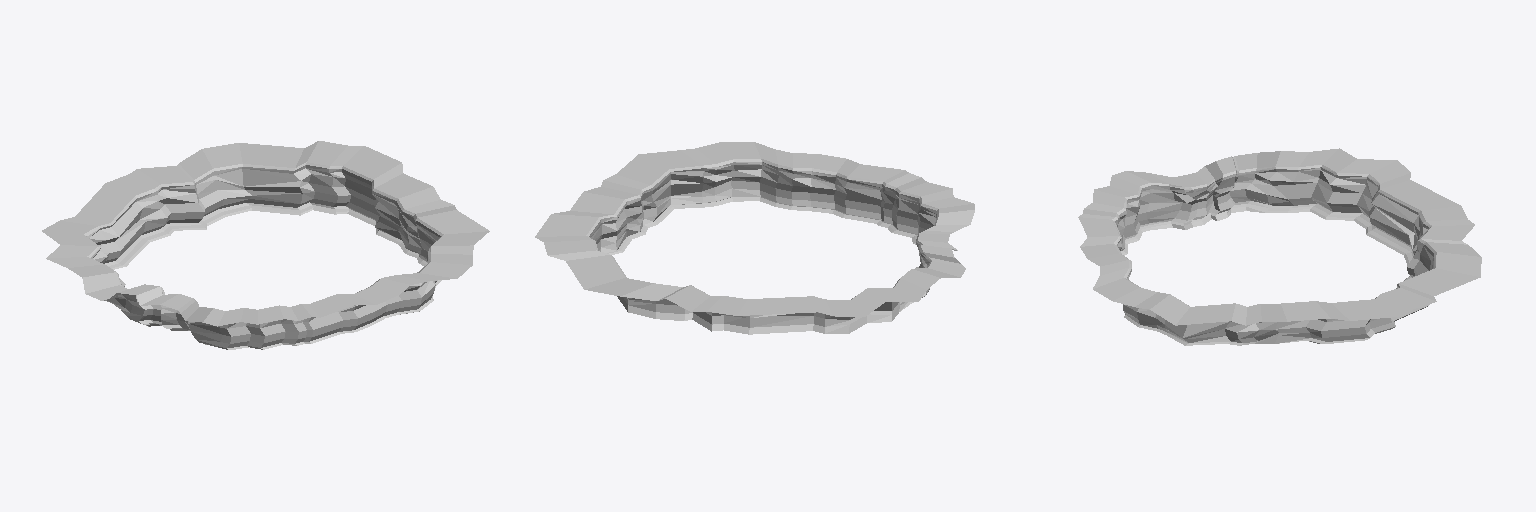
File: Walls.obj
3 views of the same model, side by side, from view 1: azimuth 30°, elevation 25°; view 2: azimuth 150°, elevation 25°; view 3: azimuth 270°, elevation 25° (orthographic).
Visible parts, largest first — view 1: Cube.044_Cube.051; view 2: Cube.044_Cube.051; view 3: Cube.044_Cube.051.
Boxes of the visible parts, x1,y1,x2,y2 form: Cube.044_Cube.051: [42, 141, 489, 349]; Cube.044_Cube.051: [535, 142, 974, 334]; Cube.044_Cube.051: [1078, 148, 1481, 345].
Bounding box in the file's own units: 659 × 81.2 × 633.